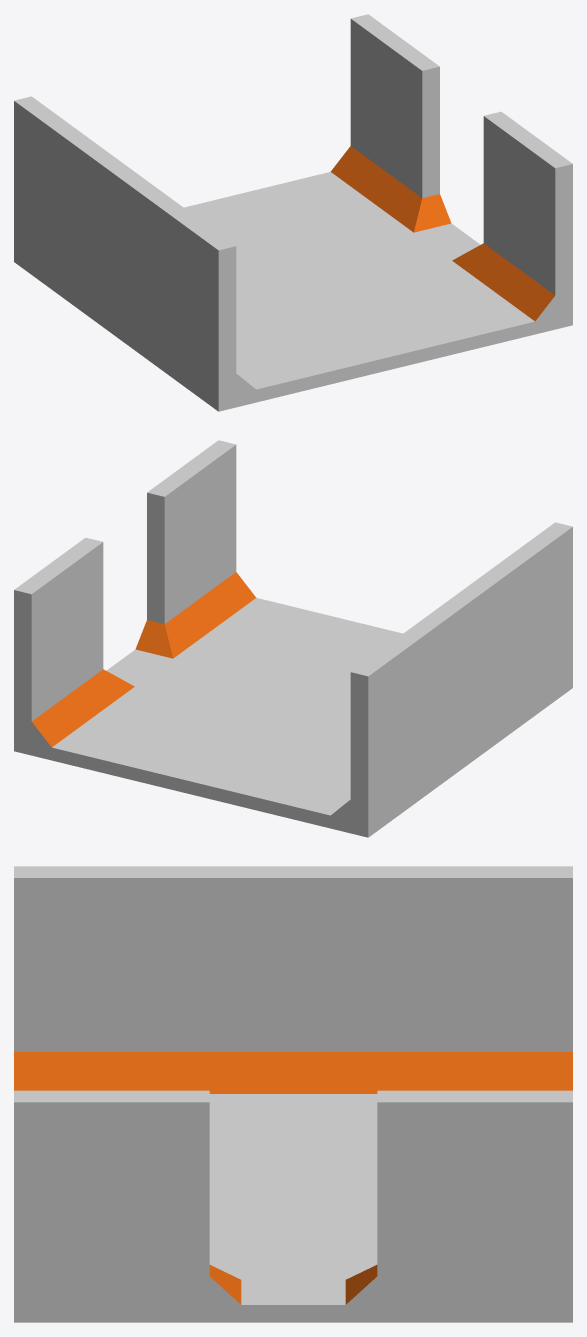
The model's file is 2-wall-1-Door.fbx.
The picture shows the model from 3 angles, top to bottom: view 1: azimuth 30°, elevation 25°; view 2: azimuth 150°, elevation 25°; view 3: azimuth 270°, elevation 25°; orthographic projection. The views are drawn at different scales.
Parts seen in each view (by area): view 1: Плоскость.019; view 2: Плоскость.019; view 3: Плоскость.019.
Boxes of the visible parts, <box> form: Плоскость.019: <box>14,14,572,411</box>; Плоскость.019: <box>14,440,572,837</box>; Плоскость.019: <box>14,866,572,1322</box>.
Bounding box in the file's own units: 200 × 87 × 200.
